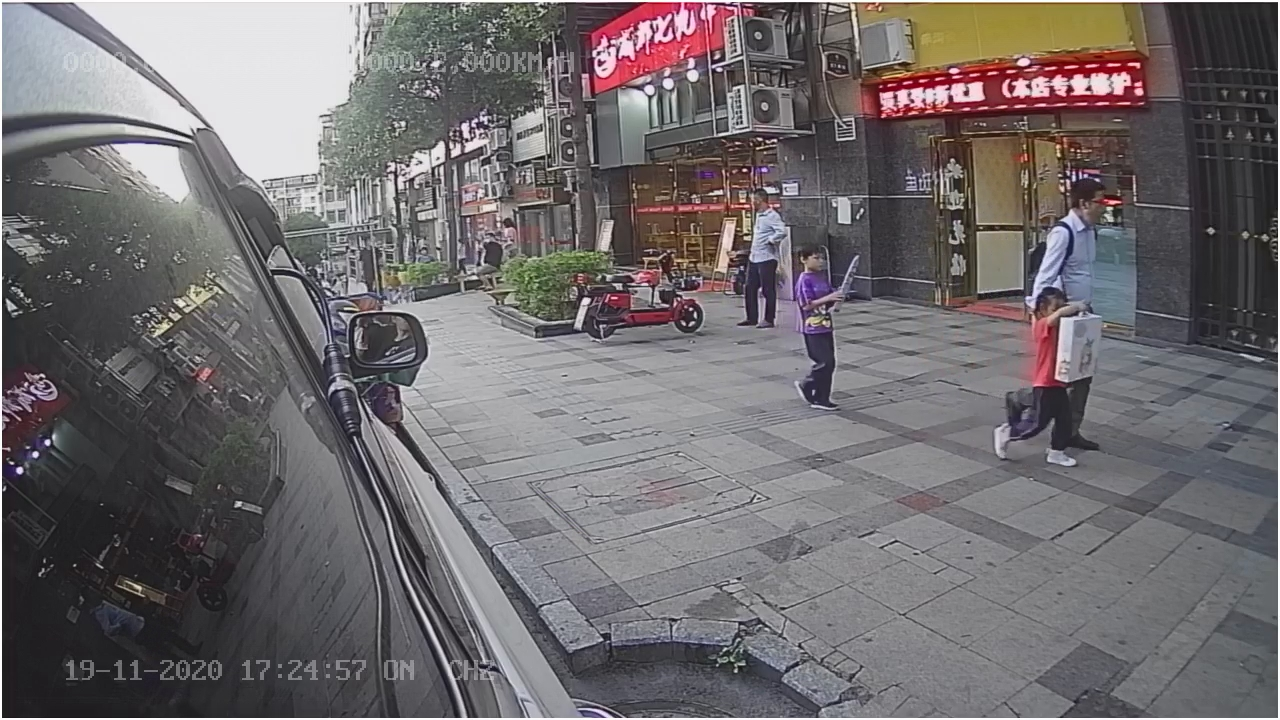person: (1028, 173, 1117, 289), (791, 239, 846, 418)
